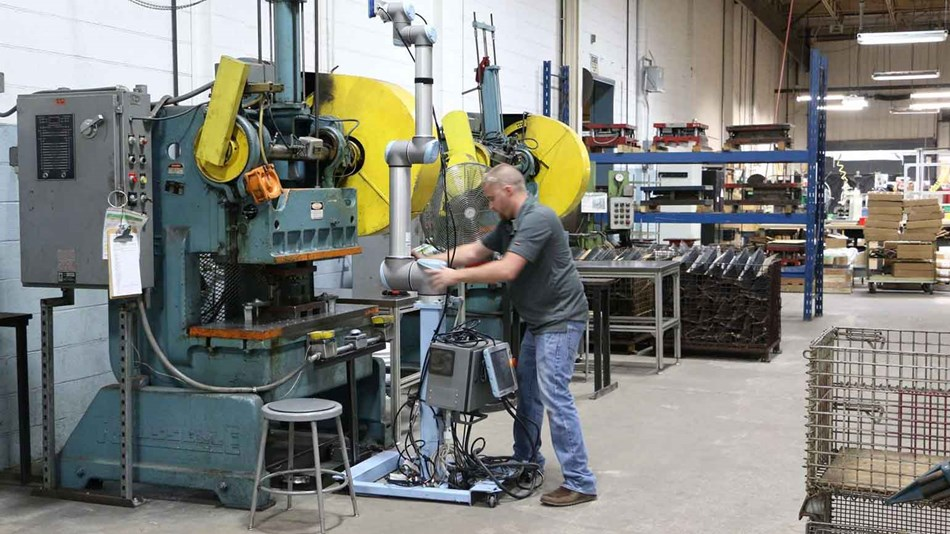person: (413, 164, 601, 507)
robot: (365, 2, 465, 312)
